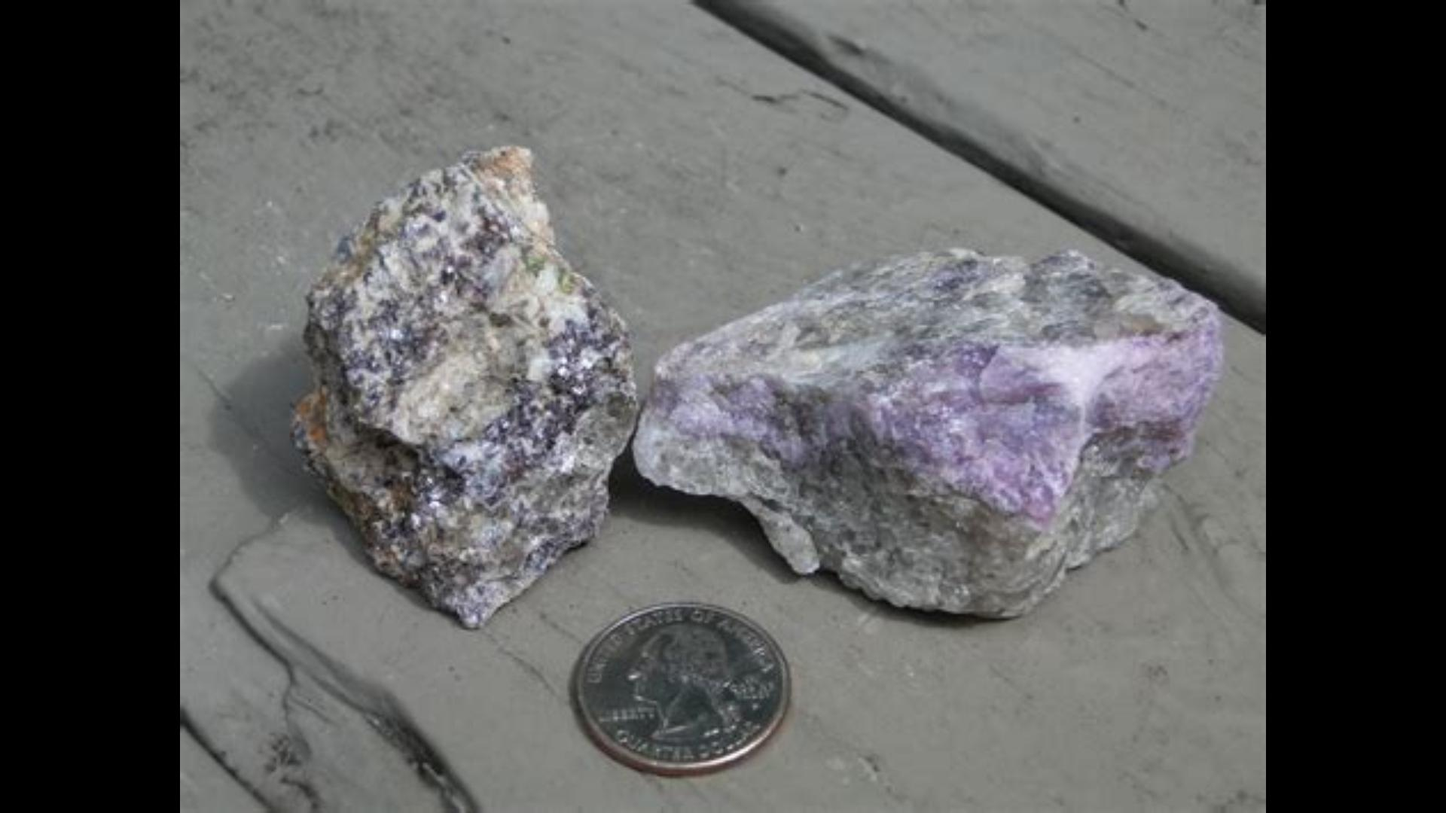rock: (634, 250, 1220, 614), (291, 143, 638, 623)
